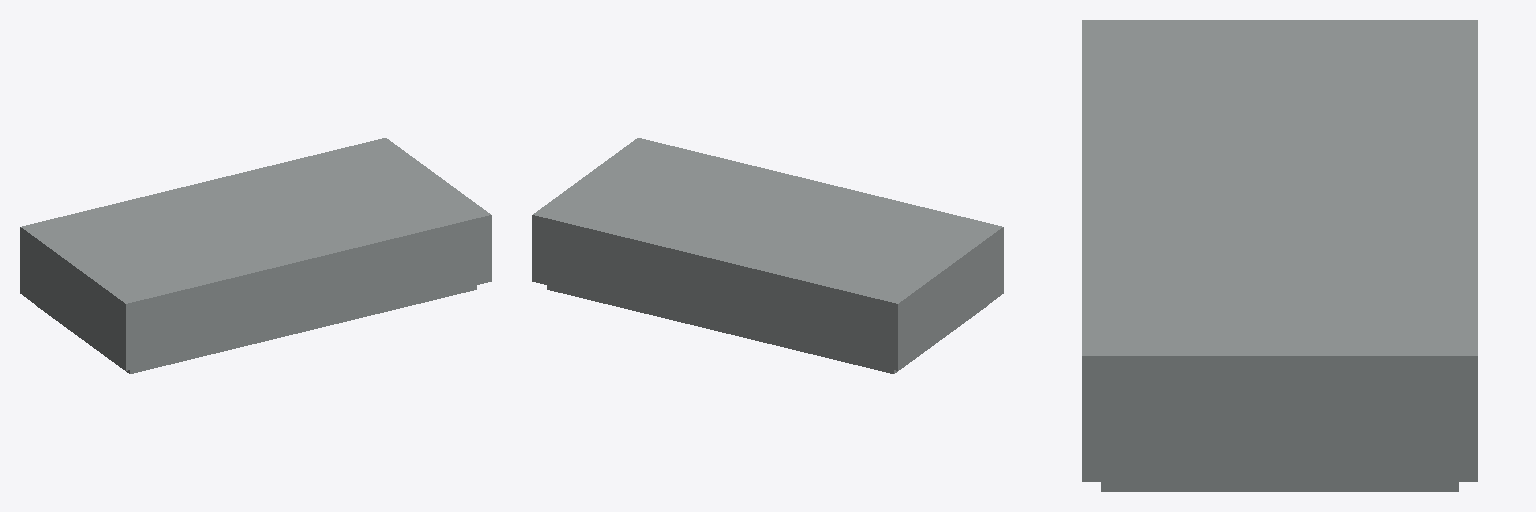
robot.urdf — 3069__light_bluish_gray:
<?xml version="1.0"?>
<robot name="3069__light_bluish_gray">
  <link name="3069__light_bluish_gray">
    <inertial>
      <origin xyz="0.000000 0.000000 -0.001307" rpy="0 0 0"/>
      <mass value="0.000319"/>
      <inertia ixx="2.243572880e-09" ixy="-0.000000000e+00" ixz="-0.000000000e+00" iyy="7.739995280e-09" iyz="-0.000000000e+00" izz="9.511276544e-09"/>
    </inertial>
    <visual>
      <geometry>
        <mesh filename="../meshes/visual/3069.obj" scale="1 1 1"/>
      </geometry>
      <material name="3069__light_bluish_gray_color">
        <color rgba="0.630 0.650 0.650 1.000"/>
      </material>
    </visual>
    <collision>
      <geometry>
        <mesh filename="../meshes/collision/3069_hull.obj" scale="1 1 1"/>
      </geometry>
    </collision>
  </link>
</robot>

--- Facts derived from the render (not from the file) ---
The picture shows the robot from 3 angles, left to right: view 1: azimuth 30°, elevation 25°; view 2: azimuth 150°, elevation 25°; view 3: azimuth 270°, elevation 25°; orthographic projection.
Model 3069__light_bluish_gray with 1 links and 0 joints (none), rooted at 3069__light_bluish_gray, posed all joints at 0.
Links seen in each view (by area): view 1: 3069__light_bluish_gray; view 2: 3069__light_bluish_gray; view 3: 3069__light_bluish_gray.
Boxes of the visible links, bbox=[...] form: 3069__light_bluish_gray: bbox=[20, 138, 491, 373]; 3069__light_bluish_gray: bbox=[532, 138, 1003, 373]; 3069__light_bluish_gray: bbox=[1082, 20, 1477, 491].
Bounding box of the posed robot: 0.016 × 0.008 × 0.0032 m (x, y, z).
Meshes: 1 distinct files referenced, 1 mesh visuals loaded (1 OBJ).
